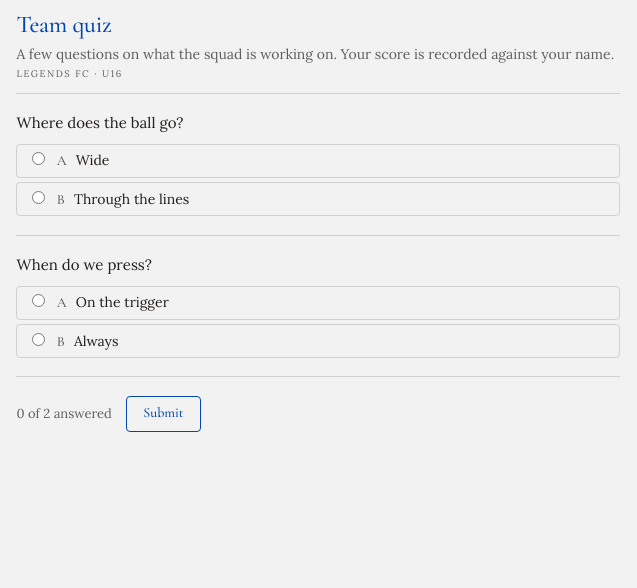
it: MARKING AGAINST THE STORED ANSWERS › marks a wrong answer wrong
The width and height of the screenshot is (637, 588).
Click the radio button labelled "A Wide".
click(38, 159)  # box [32,152,45,165]
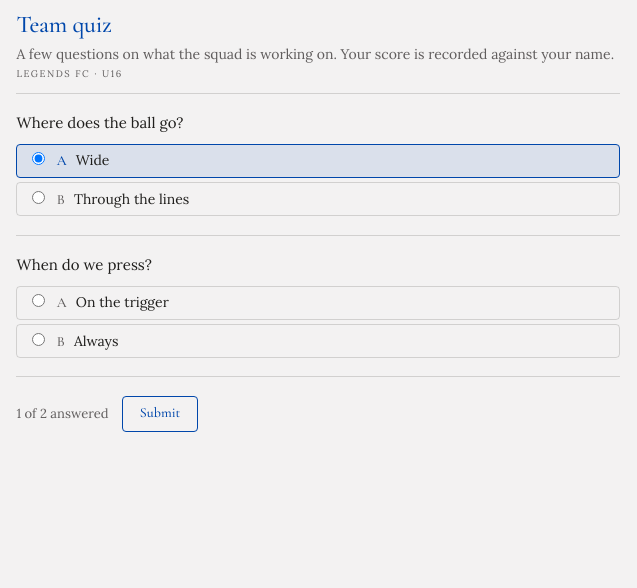
Click the button "Submit".
click(160, 414)  # box [122,396,198,432]
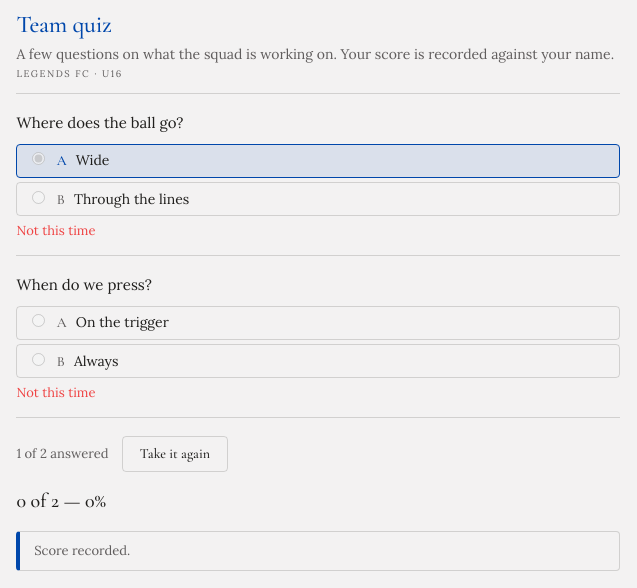
Now the message "0 of 2 — 0%" is shown, box [16,489,106,513]
